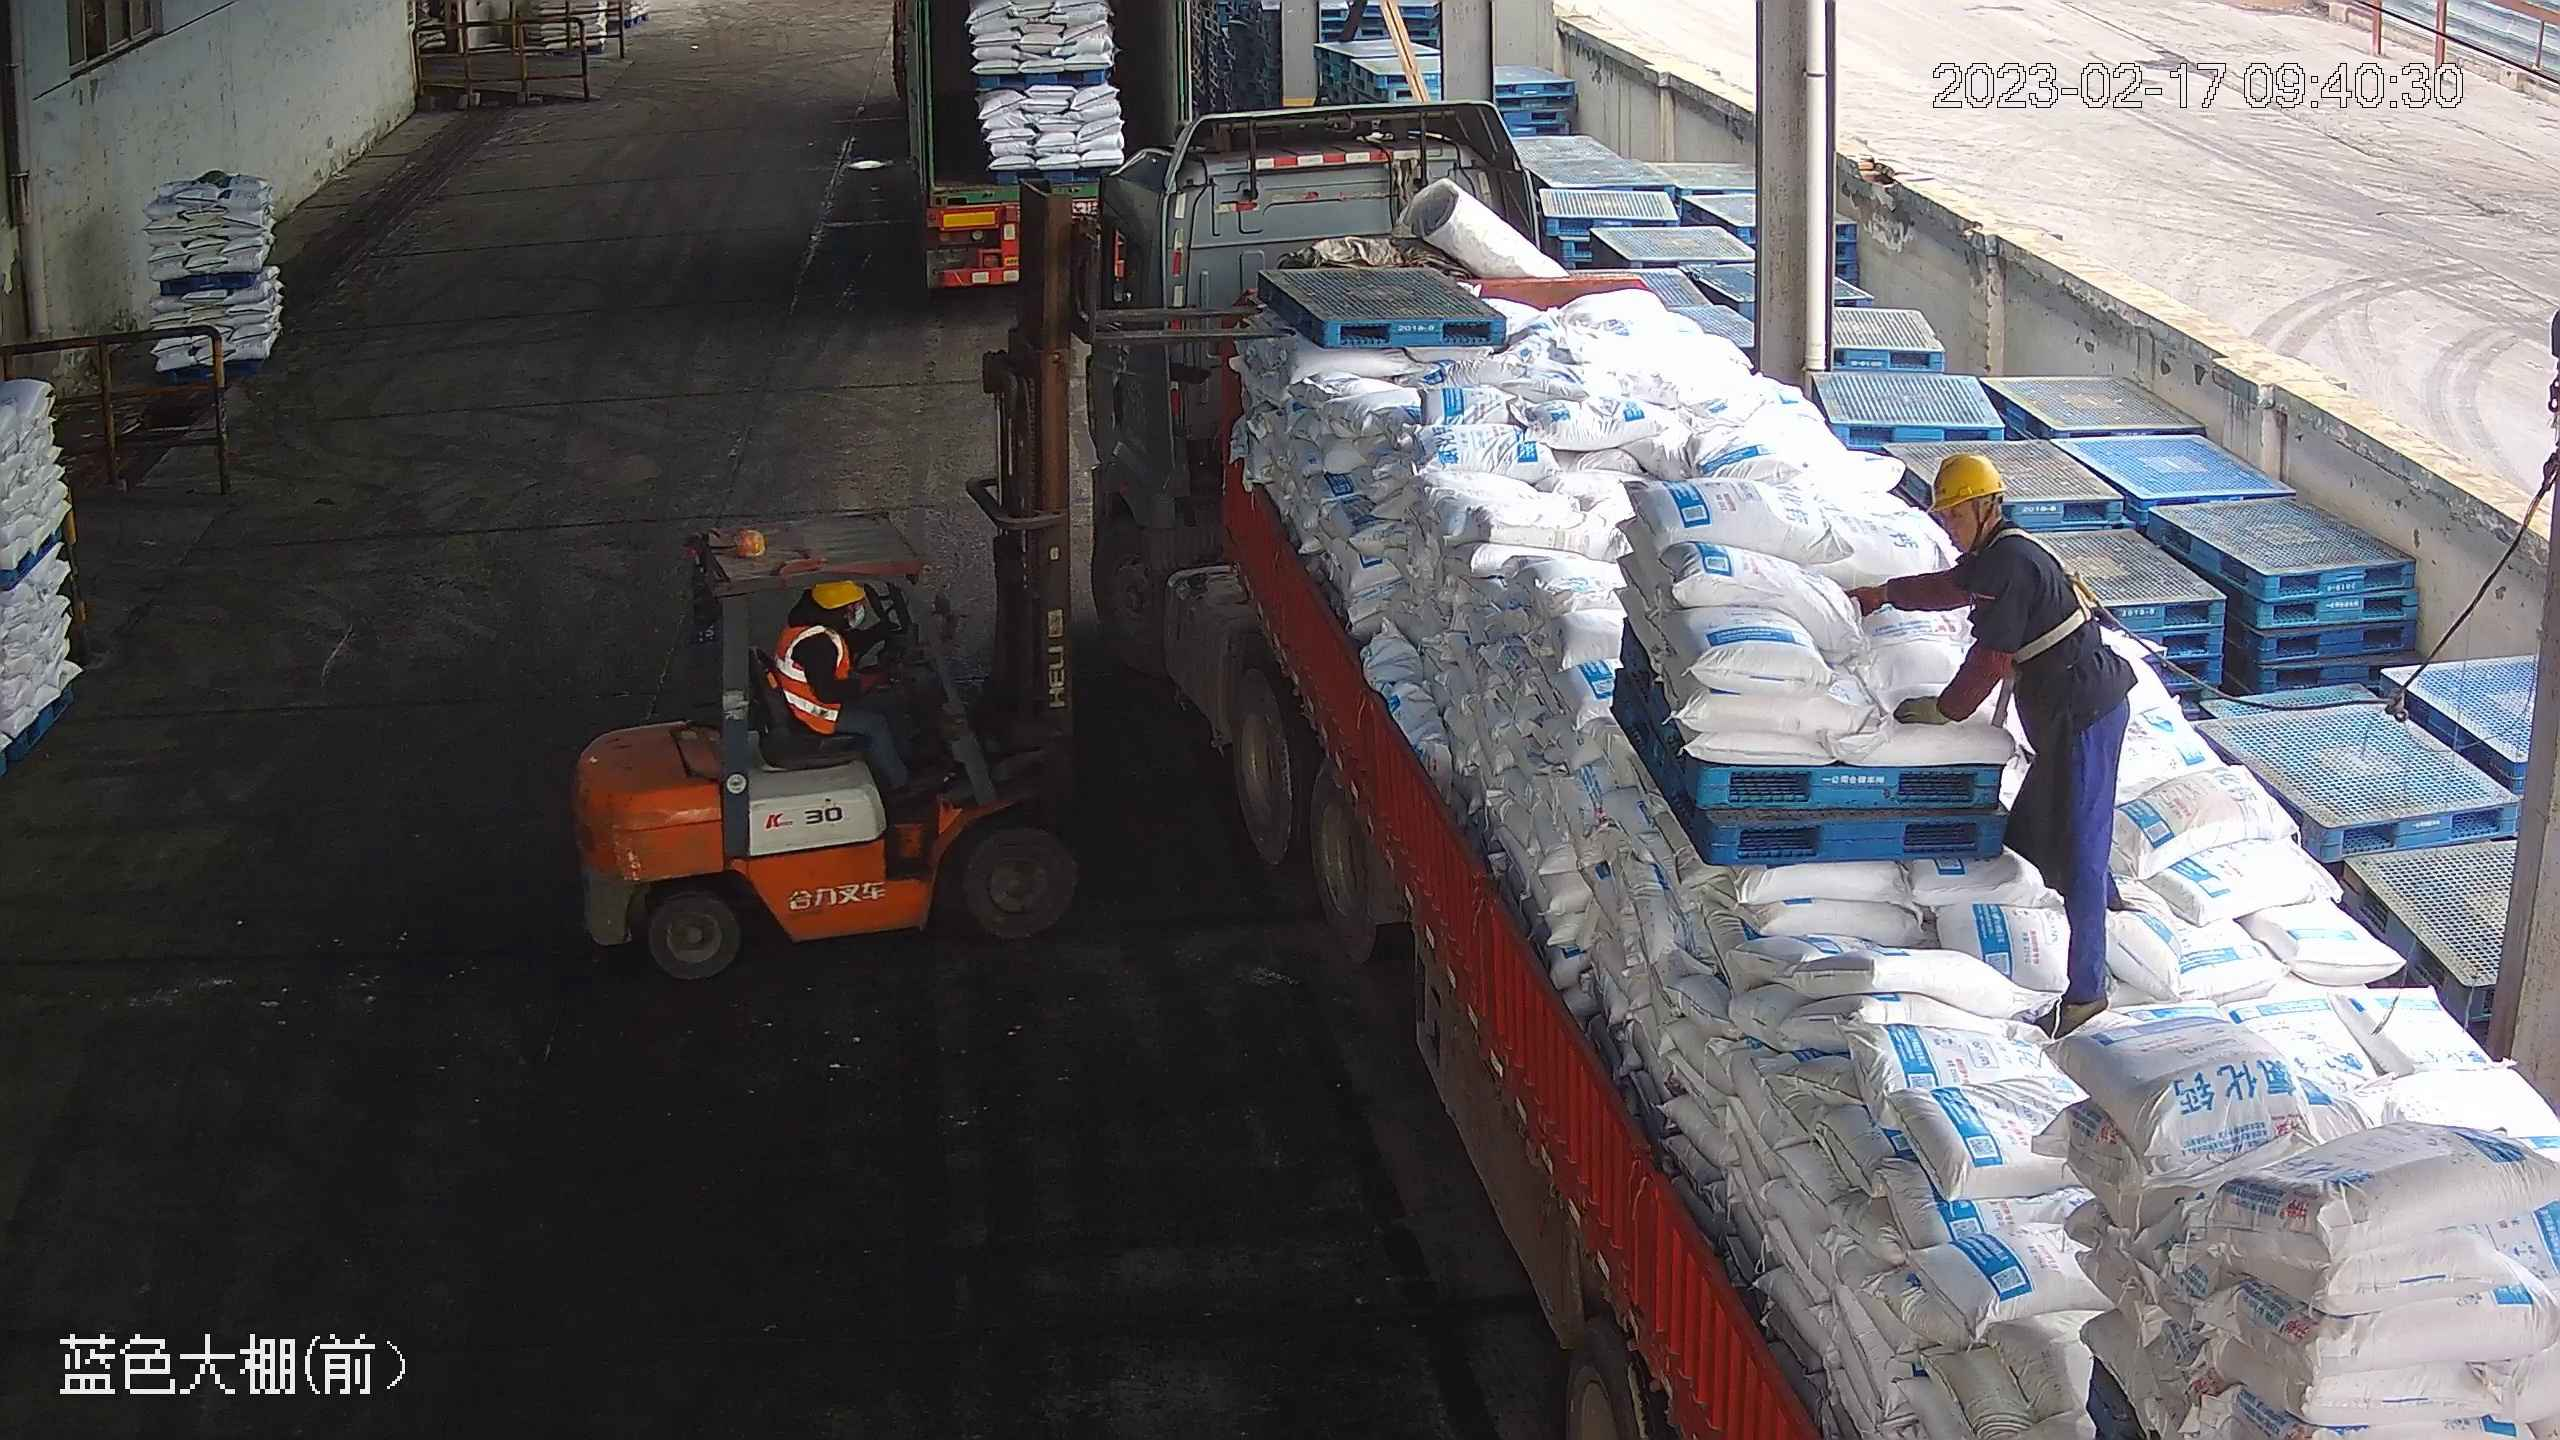belt: (1984, 523, 2116, 665)
head: (1924, 451, 2067, 587), (774, 576, 868, 662)
helmet: (1926, 450, 2007, 514), (813, 578, 867, 607)
people: (1845, 449, 2141, 1033), (770, 574, 933, 780)
truck: (1089, 98, 2558, 1440), (890, 1, 1191, 293)
